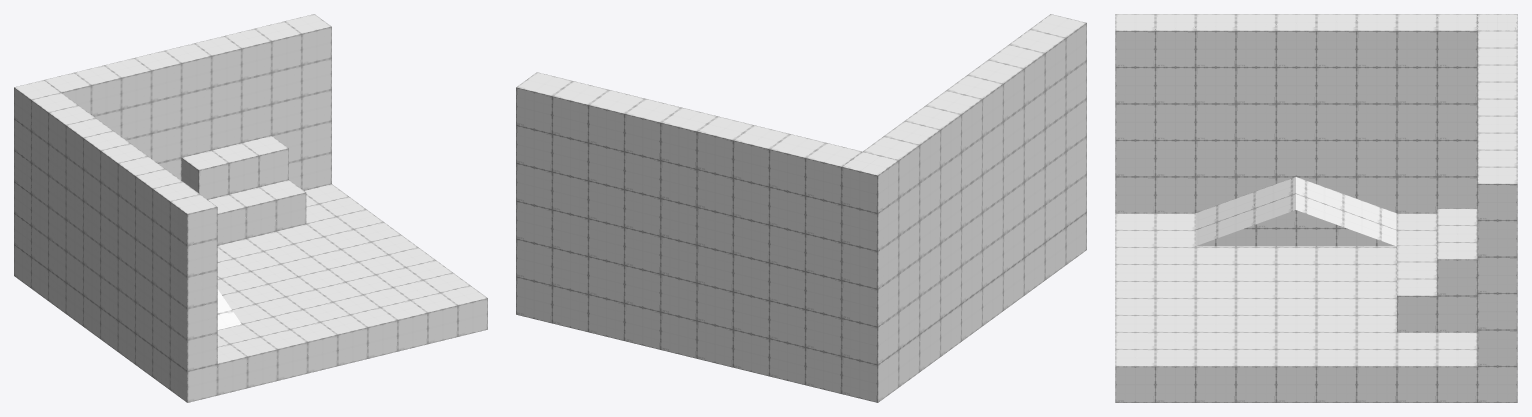
3 renders of one model, left to right at view 1: azimuth 30°, elevation 25°; view 2: azimuth 150°, elevation 25°; view 3: azimuth 270°, elevation 25°, orthographic. The views are drawn at different scales.
Parts seen in each view (by area): view 1: Cube__1_, Cube, Cube__2_, Cube__4_, Cube__5_, Cube__3_; view 2: Cube__2_, Cube, Cube__1_; view 3: Cube, Cube__1_, Cube__2_, Cube__3_, Cube__5_, Cube__4_.
Part boxes in pixels (x1=…): Cube__1_: x1=14, y1=184, x2=487, y2=402; Cube: x1=14, y1=80, x2=217, y2=371; Cube__2_: x1=14, y1=14, x2=331, y2=256; Cube__4_: x1=181, y1=135, x2=288, y2=199; Cube__5_: x1=208, y1=180, x2=306, y2=245; Cube__3_: x1=217, y1=289, x2=241, y2=329; Cube__2_: x1=516, y1=72, x2=896, y2=364; Cube: x1=841, y1=14, x2=1086, y2=364; Cube__1_: x1=516, y1=212, x2=1086, y2=402; Cube: x1=1115, y1=14, x2=1517, y2=213; Cube__1_: x1=1115, y1=213, x2=1517, y2=402; Cube__2_: x1=1477, y1=14, x2=1517, y2=366; Cube__3_: x1=1195, y1=176, x2=1396, y2=246; Cube__5_: x1=1397, y1=245, x2=1477, y2=332; Cube__4_: x1=1437, y1=208, x2=1477, y2=295.
Size of the model in its own units: 1000 by 600 by 1000.
Materials: 1 (1 with a texture image).
